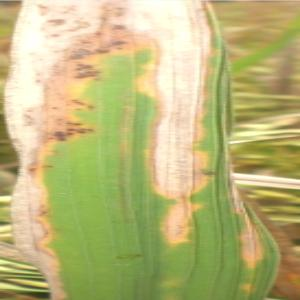2 BacterialBlight: (3, 1, 220, 296)
